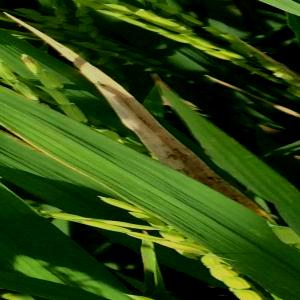2 BacterialBlight: (2, 116, 90, 178)
